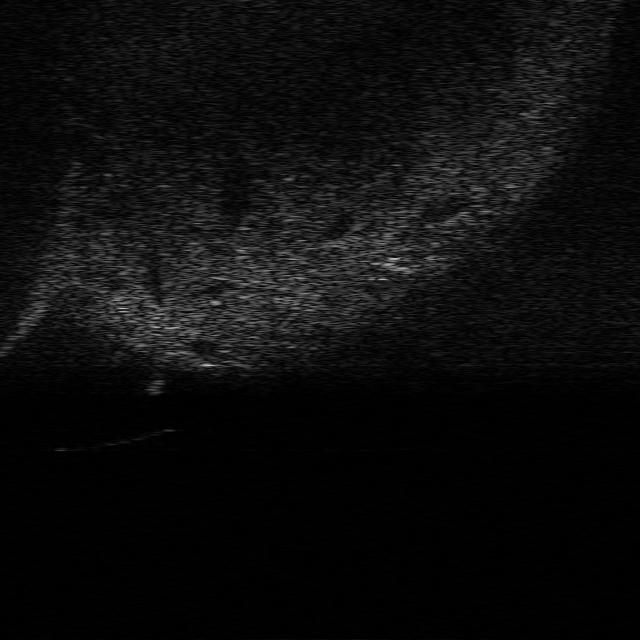cylinder: (139, 368, 169, 396)
